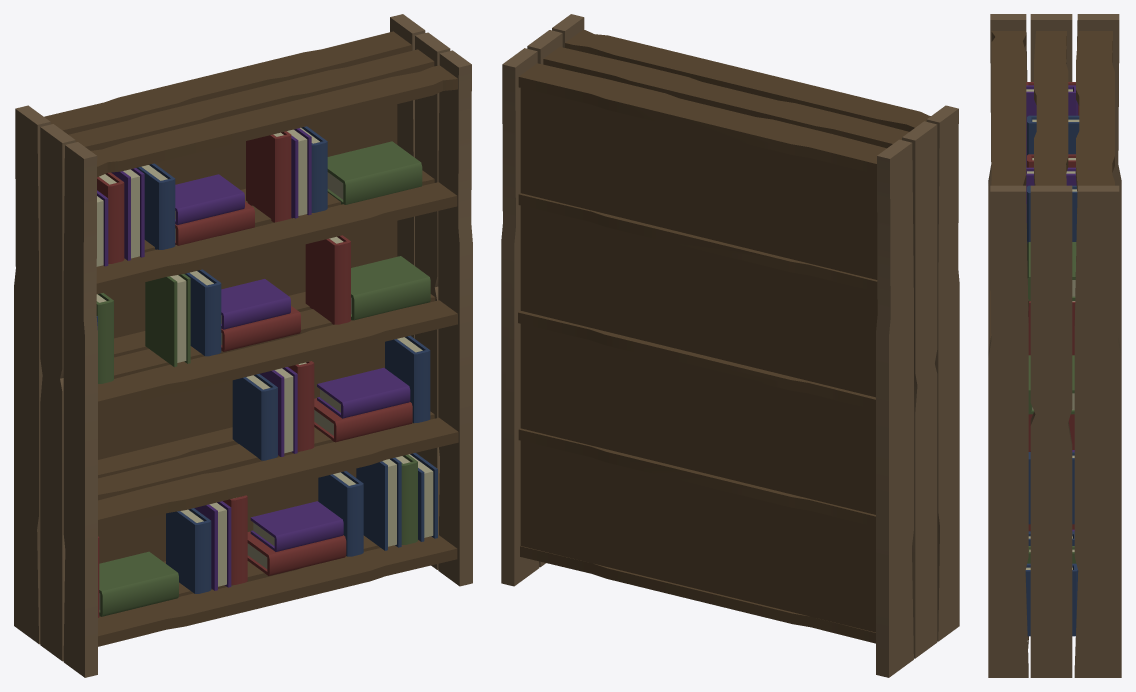
Rendered from quaternius-ultimate-modular-ruins-bookcase-full.glb.
3 renders of one model, left to right at view 1: azimuth 30°, elevation 25°; view 2: azimuth 150°, elevation 25°; view 3: azimuth 270°, elevation 25°, orthographic. The views are drawn at different scales.
Visible parts, largest first — view 1: Bookcase_Full; view 2: Bookcase_Full; view 3: Bookcase_Full.
Part boxes in pixels (left/top/right/bottom): Bookcase_Full: left=14, top=14, right=472, bottom=677; Bookcase_Full: left=501, top=14, right=959, bottom=677; Bookcase_Full: left=988, top=14, right=1121, bottom=677.
Size of the model in its own units: 2.08 by 2.65 by 0.6581.
Materials: 1 (1 with a texture image).
